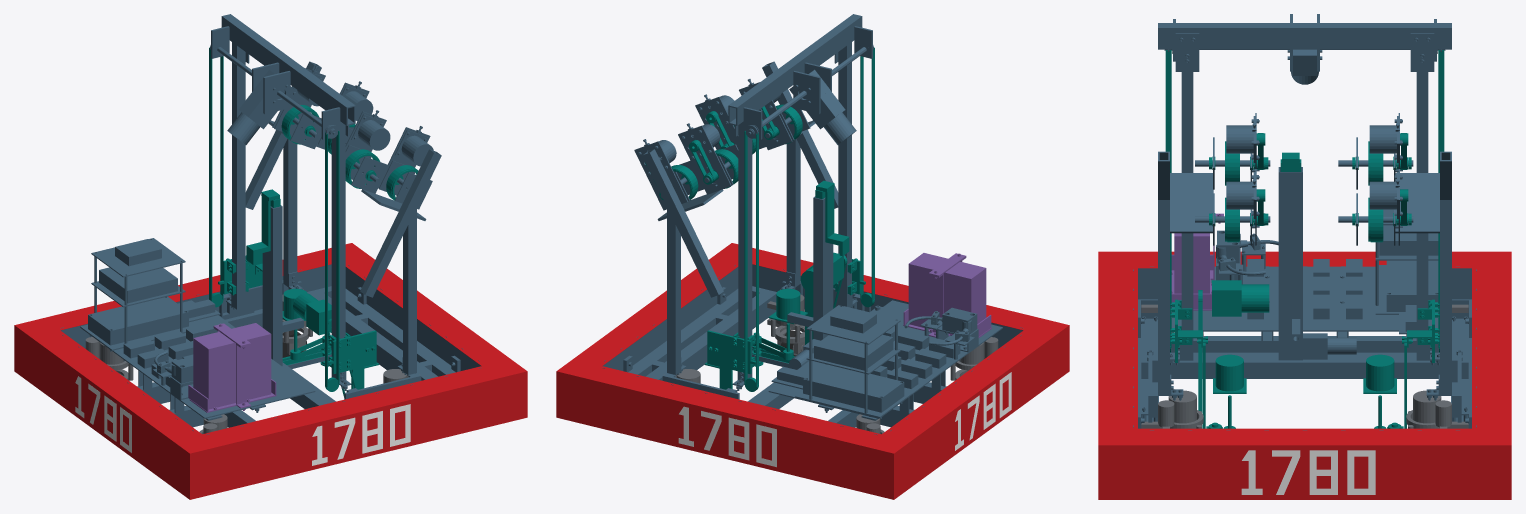
Rendered from r9-assembly.glb.
3 views of the same model, side by side, from view 1: azimuth 30°, elevation 25°; view 2: azimuth 150°, elevation 25°; view 3: azimuth 270°, elevation 25° (orthographic). The views are drawn at different scales.
Parts seen in each view (by area): view 1: R7 chassis / R7 structure, R9 bumper cover envelope / R7 bumper, R7 chassis / R7 electrical, R7 chassis / R7 mechanism, R9 upper lift drive / R7 structure, R7 carriage / R7 mechanism, R8 fixed climb mast / R7 structure, R9 removable bumper cores / R7 structure, R7 chassis / R7 number, R9 front frame / R7 structure, R7 cradle / R7 mechanism, R9 electrical supports / R7 structure (+2 smaller); view 2: R7 chassis / R7 structure, R9 bumper cover envelope / R7 bumper, R7 chassis / R7 mechanism, R7 chassis / R7 electrical, R9 upper lift drive / R7 structure, R8 fixed climb mast / R7 structure, R9 removable bumper cores / R7 structure, R7 carriage / R7 mechanism, R7 chassis / R7 number, R9 front frame / R7 structure, R7 cradle / R7 mechanism, R9 electrical supports / R7 structure (+4 smaller); view 3: R7 chassis / R7 structure, R9 bumper cover envelope / R7 bumper, R8 fixed climb mast / R7 structure, R7 chassis / R7 mechanism, R7 carriage / R7 mechanism, R7 chassis / R7 number, R7 cradle / R7 mechanism, R7 chassis / R7 electrical, Front right housing / R7 module, Front left housing / R7 module, R9 upper lift drive / R7 structure, R9 removable bumper cores / R7 structure (+2 smaller).
Boxes of the visible parts, x1,y1,x2,y2 form: R7 chassis / R7 structure: (80, 14, 460, 427); R9 bumper cover envelope / R7 bumper: (14, 243, 527, 499); R7 chassis / R7 electrical: (188, 323, 276, 412); R7 chassis / R7 mechanism: (209, 47, 418, 391); R9 upper lift drive / R7 structure: (210, 26, 340, 144); R7 carriage / R7 mechanism: (218, 253, 376, 397); R8 fixed climb mast / R7 structure: (214, 205, 335, 408); R9 removable bumper cores / R7 structure: (60, 264, 481, 370); R7 chassis / R7 number: (75, 376, 410, 465); R9 front frame / R7 structure: (307, 287, 437, 380); R7 cradle / R7 mechanism: (282, 288, 379, 368); R9 electrical supports / R7 structure: (94, 256, 220, 399); R7 chassis / R7 structure: (623, 14, 1002, 427); R9 bumper cover envelope / R7 bumper: (556, 243, 1069, 499); R7 chassis / R7 mechanism: (645, 47, 874, 391); R7 chassis / R7 electrical: (903, 253, 991, 337); R9 upper lift drive / R7 structure: (743, 26, 873, 144); R8 fixed climb mast / R7 structure: (748, 196, 882, 408); R9 removable bumper cores / R7 structure: (602, 264, 1023, 370); R7 carriage / R7 mechanism: (707, 252, 865, 389); R7 chassis / R7 number: (678, 372, 1011, 467); R9 front frame / R7 structure: (646, 287, 776, 380); R7 cradle / R7 mechanism: (704, 288, 807, 368); R9 electrical supports / R7 structure: (771, 323, 978, 413); R7 chassis / R7 structure: (1138, 23, 1471, 428); R9 bumper cover envelope / R7 bumper: (1098, 251, 1511, 499); R8 fixed climb mast / R7 structure: (1141, 167, 1468, 378); R7 chassis / R7 mechanism: (1165, 50, 1444, 352); R7 carriage / R7 mechanism: (1170, 280, 1439, 428); R7 chassis / R7 number: (1241, 450, 1375, 494); R7 cradle / R7 mechanism: (1206, 354, 1403, 428); R7 chassis / R7 electrical: (1171, 213, 1223, 310); Front right housing / R7 module: (1141, 390, 1203, 428); Front left housing / R7 module: (1406, 390, 1468, 428); R9 upper lift drive / R7 structure: (1164, 14, 1445, 84); R9 removable bumper cores / R7 structure: (1138, 268, 1471, 318).
Bounding box in the file's own units: 0.9764 × 0.9683 × 0.8795.
